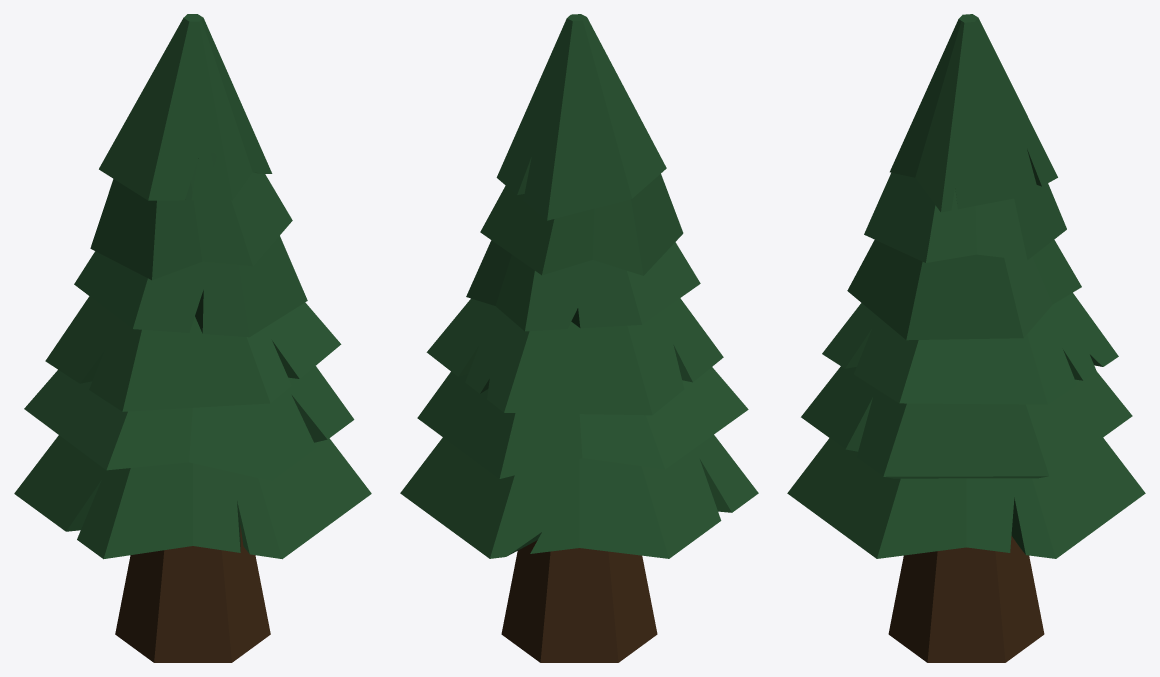
File: Smreka03.glb
The picture shows the model from 3 angles, left to right: view 1: azimuth 30°, elevation 25°; view 2: azimuth 150°, elevation 25°; view 3: azimuth 270°, elevation 25°; orthographic projection.
Visible parts, largest first — view 1: Cylinder.007; view 2: Cylinder.007; view 3: Cylinder.007.
Boxes of the visible parts, box(x1,y1,x2,y2) form: Cylinder.007: box(14, 14, 371, 662); Cylinder.007: box(400, 14, 758, 662); Cylinder.007: box(787, 14, 1145, 662).
Size of the model in its own units: 0.347 by 0.7609 by 0.4006.
